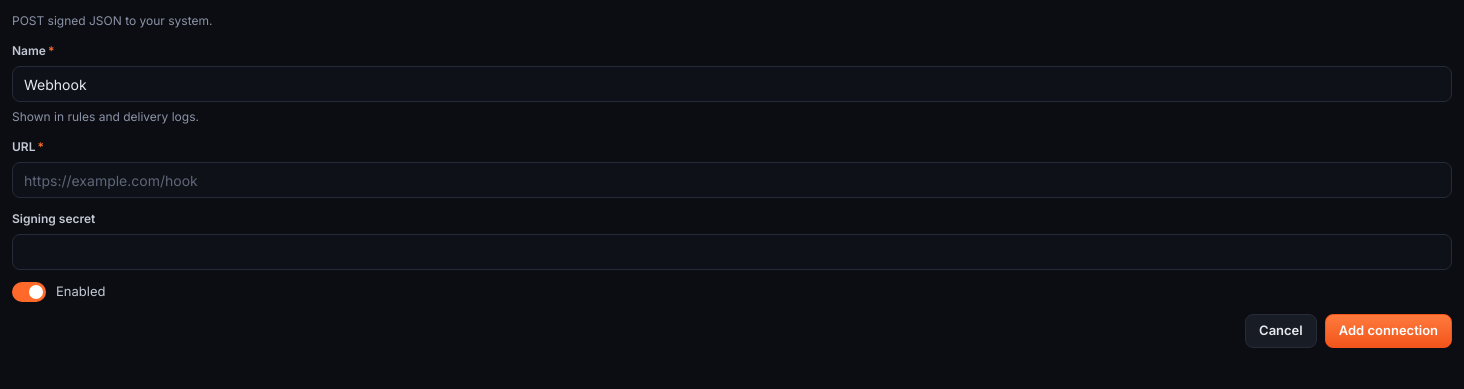
Test case: <ConnectorForm> › renders fields from the catalogue and blocks invalid submits
The width and height of the screenshot is (1464, 389).
Expected: the field labelled "URL*" is shown, [12,162,1452,198]
Expected: the password field labelled "Signing secret" is shown, [12,234,1452,270]
Click the button "Add connection".
click(1388, 331)  # box [1325,314,1452,348]
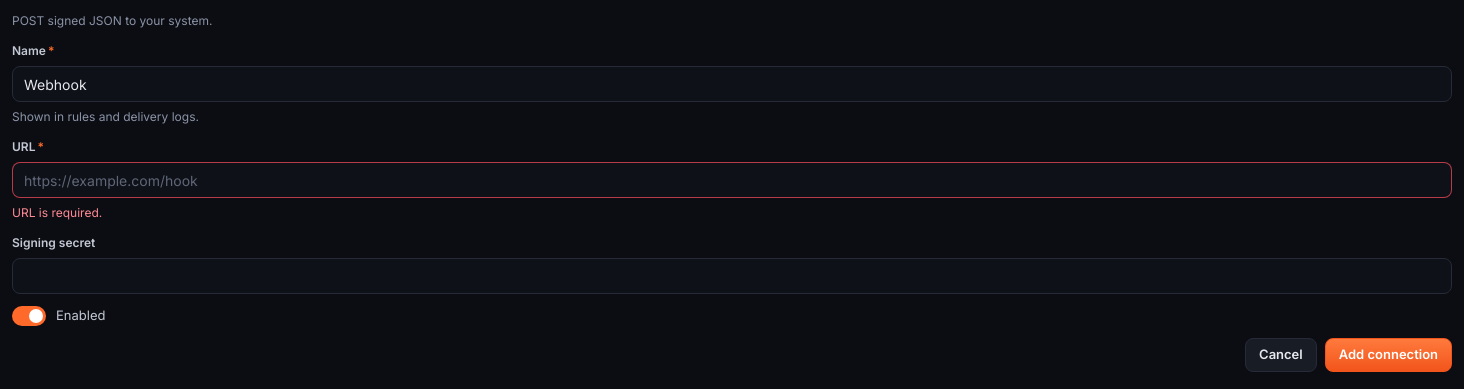
Expected: the message shows "URL is required", [12,205,102,220]
